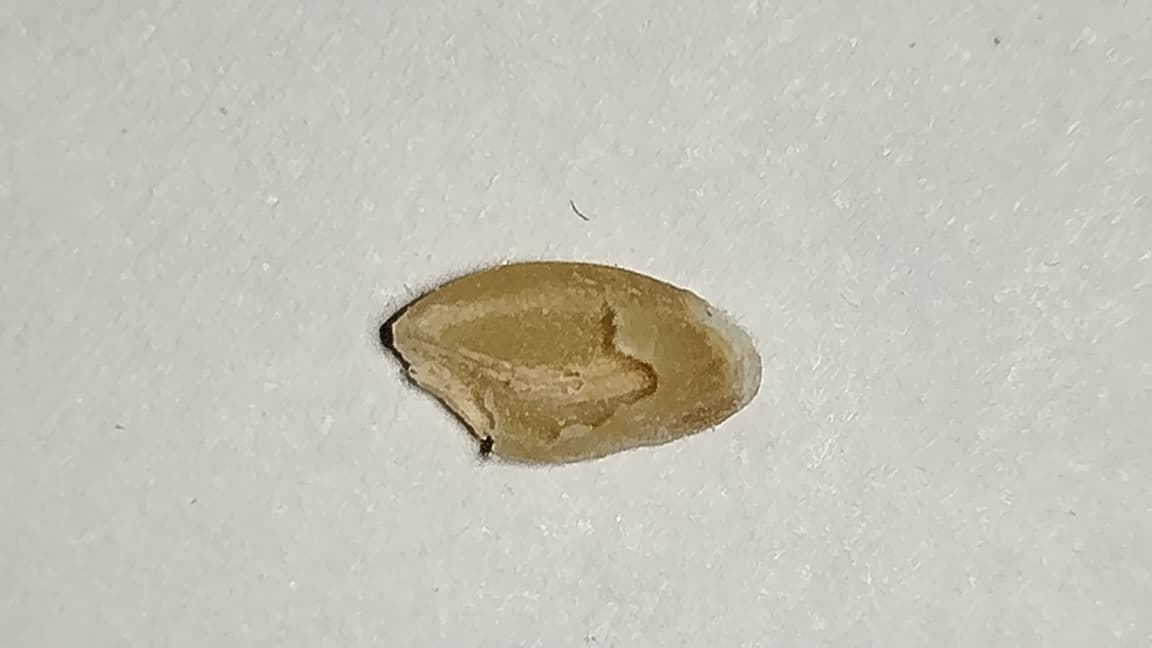damage: (373, 255, 776, 469)
insectdamage: (381, 295, 659, 460)
